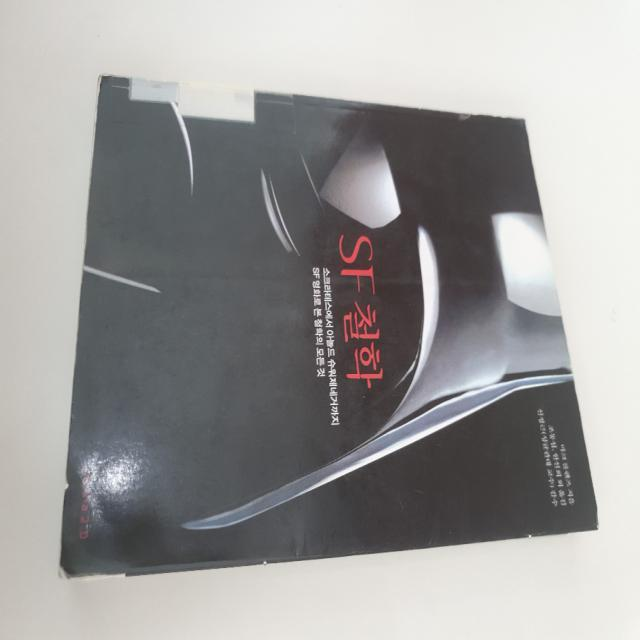Ripped: (52, 535, 127, 587), (445, 102, 492, 128)
Wornout: (90, 68, 117, 141), (520, 527, 553, 542), (59, 470, 76, 498), (258, 554, 276, 570)
